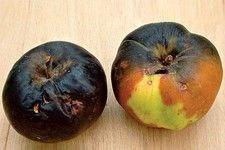Apple: (113, 21, 222, 130), (1, 43, 106, 141)
